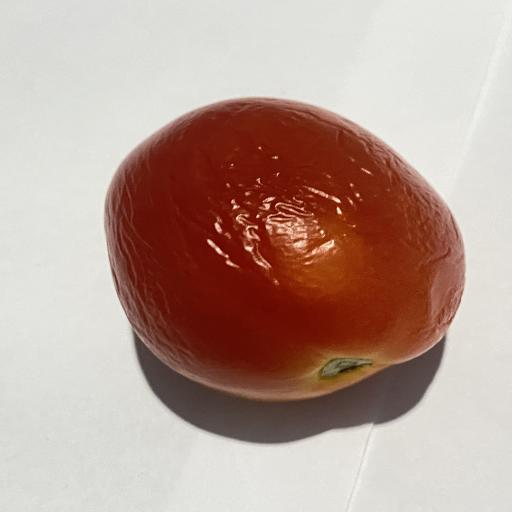spoiled: (105, 98, 465, 400)
